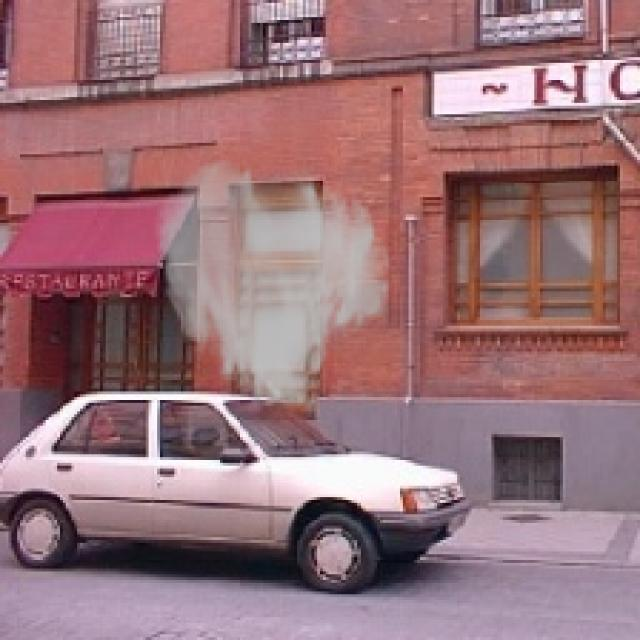Smoke: (154, 154, 394, 420)
